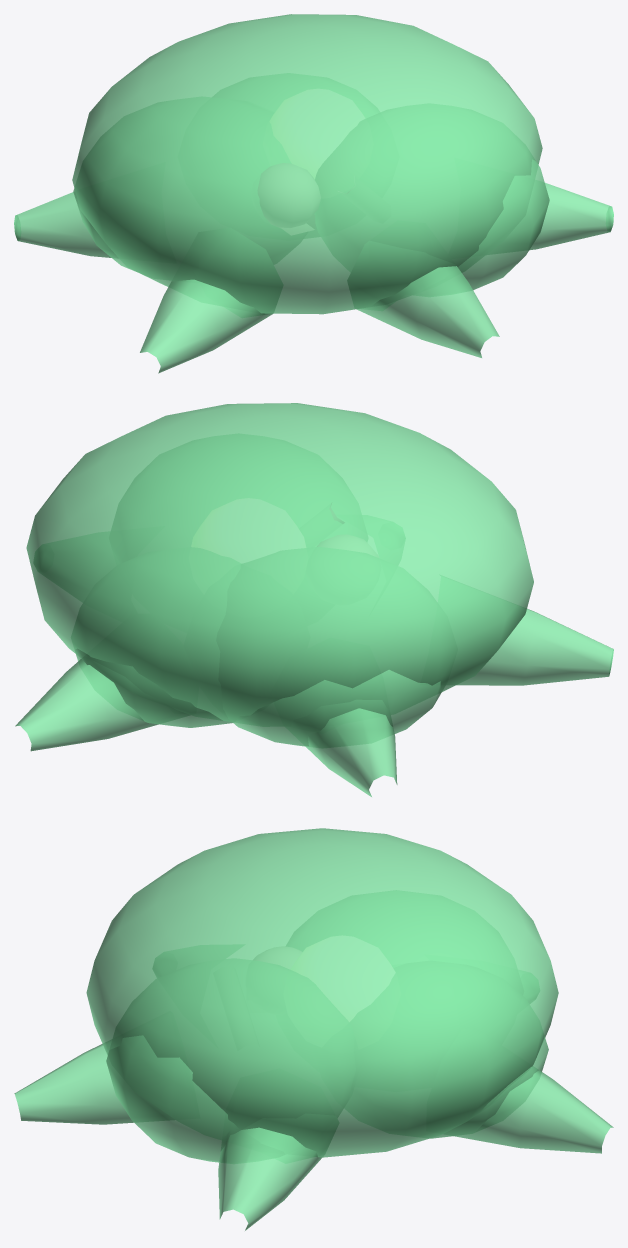
Rendered from jelly_ooze.glb.
3 views of the same model, one above another, from view 1: azimuth 30°, elevation 25°; view 2: azimuth 150°, elevation 25°; view 3: azimuth 270°, elevation 25° (orthographic). The views are drawn at different scales.
Bounding box in the file's own units: 1.25 × 0.56 × 1.22.
